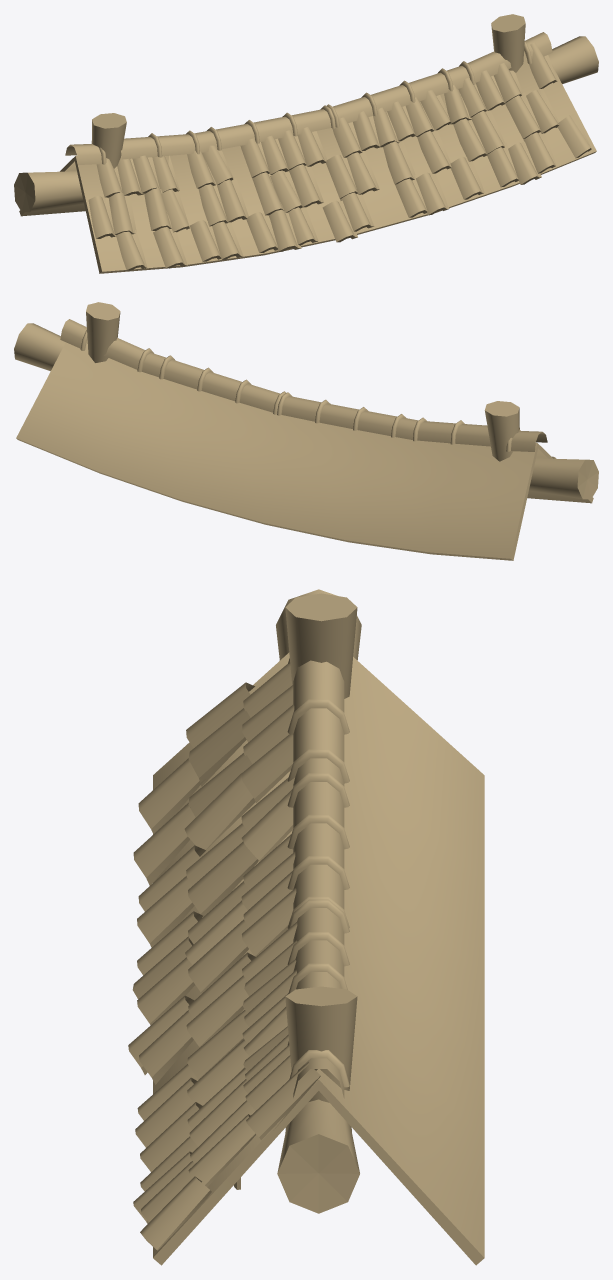
Rendered from Arches-Broken-roof.fbx.
3 renders of one model, top to bottom at view 1: azimuth 30°, elevation 25°; view 2: azimuth 150°, elevation 25°; view 3: azimuth 270°, elevation 25°, orthographic. The views are drawn at different scales.
Parts seen in each view (by area): view 1: Arches-Broken-roof; view 2: Arches-Broken-roof; view 3: Arches-Broken-roof.
Boxes of the visible parts, box(x1,y1,x2,y2) form: Arches-Broken-roof: box(14, 14, 598, 273); Arches-Broken-roof: box(14, 302, 598, 560); Arches-Broken-roof: box(128, 589, 484, 1265).
Bounding box in the file's own units: 1166 × 300 × 316.
